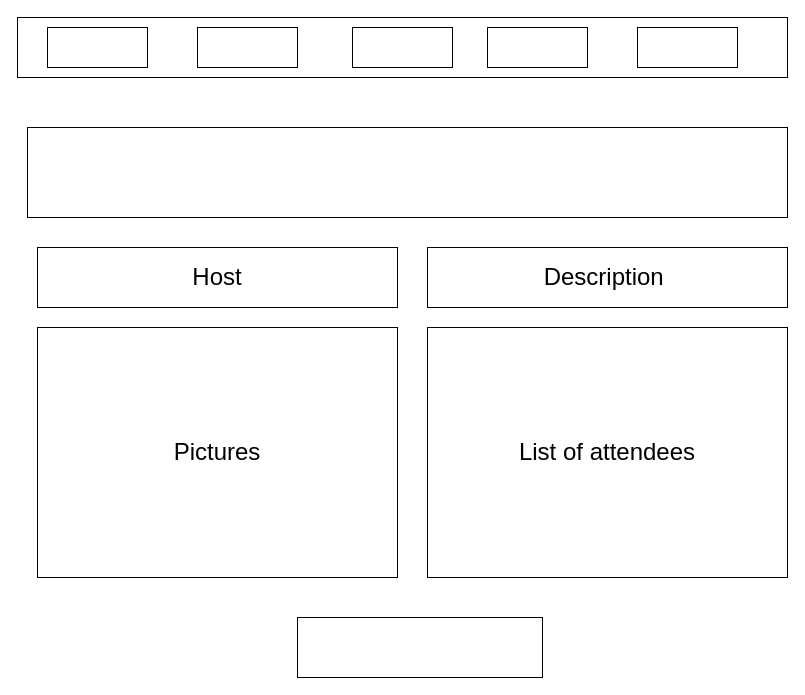
Image size: 805x695. Some labels were removed from this diagram. Each missing label, with the centre of its shape:
"Event Title" goes at pixel 407 172.
"RSVP" goes at pixel 419 647.
